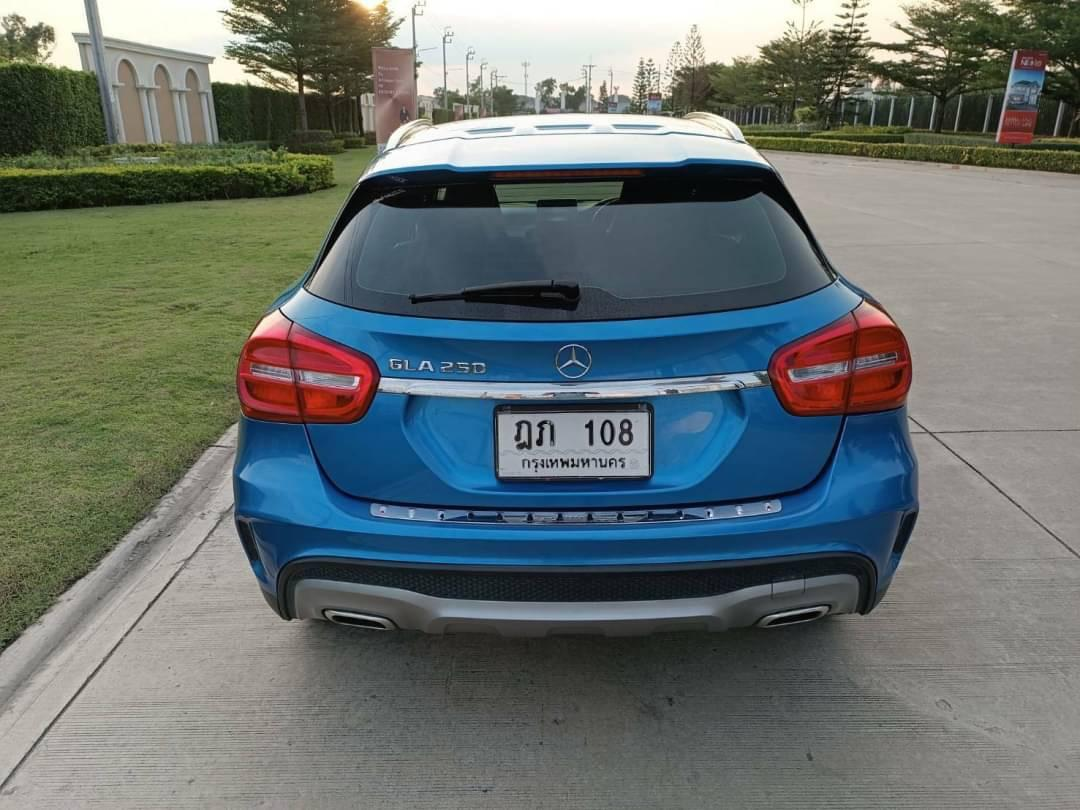license-plate: (493, 401, 657, 482)
